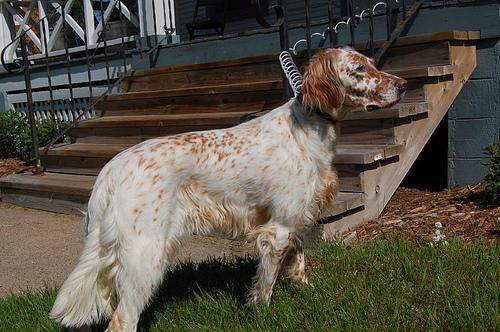dog-english_setter: (300, 45, 406, 105)
